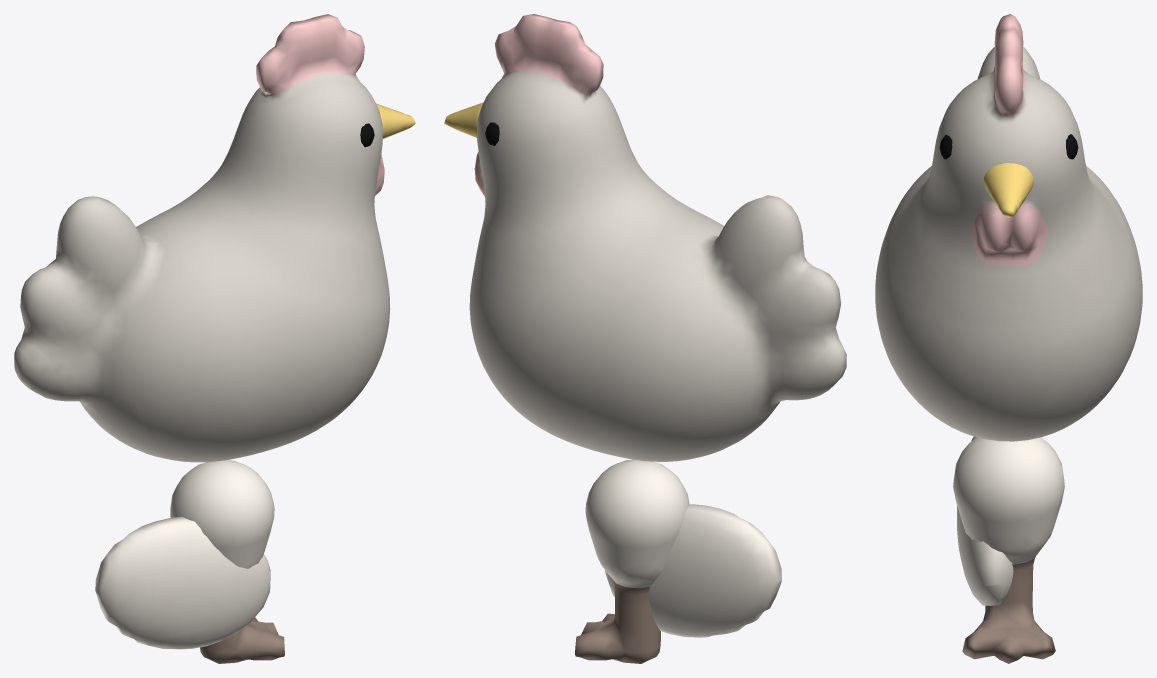
File: chicken_adult.glb
3 views of the same model, side by side, from view 1: azimuth 30°, elevation 25°; view 2: azimuth 150°, elevation 25°; view 3: azimuth 270°, elevation 25° (orthographic). The views are drawn at different scales.
Parts seen in each view (by area): view 1: body, wing, leg, beak; view 2: body, leg, wing, beak; view 3: body, leg, wing, beak, eye.
Part boxes in pixels (x1,y1,x2,y2): body: (14,14,390,462); wing: (95,516,270,649); leg: (170,460,284,663); beak: (376,103,415,138); body: (469,14,846,461); leg: (575,459,689,663); wing: (605,504,781,637); beak: (444,102,483,137); body: (875,14,1142,441); leg: (953,437,1064,663); wing: (957,436,1013,606); beak: (984,163,1034,217); eye: (939,134,1078,159).
Size of the model in its own units: 1.69 by 2.51 by 0.9199.
